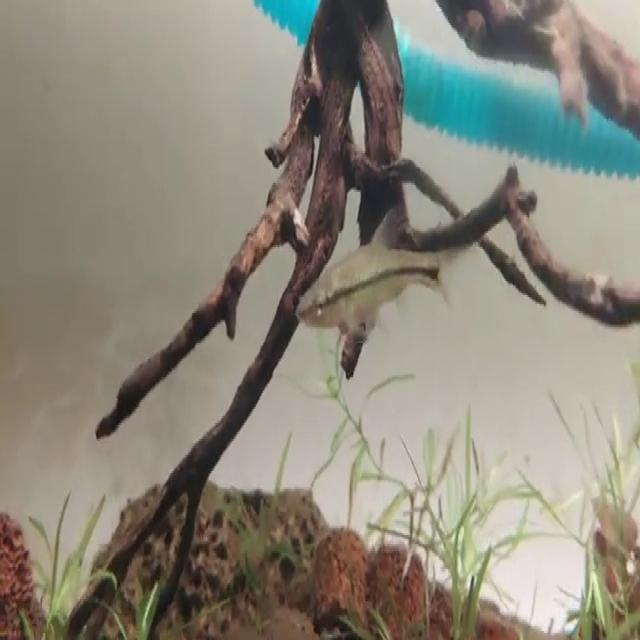Cakil Baligi: (296, 201, 454, 335)
